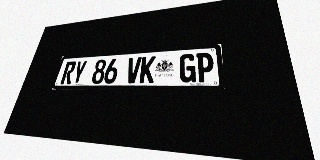6: (103, 58, 120, 84)
8: (91, 59, 108, 84)
G: (179, 53, 196, 83)
K: (139, 56, 156, 83)
P: (196, 52, 214, 82)
R: (60, 61, 77, 84)
V: (125, 57, 142, 83)
Y: (71, 60, 88, 84)
